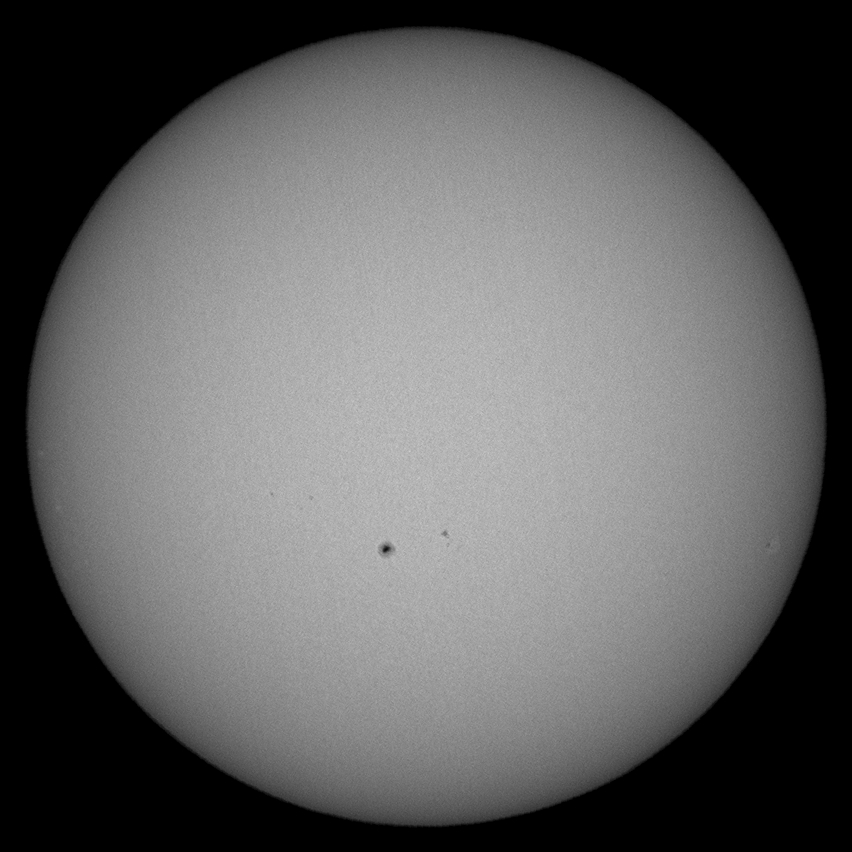sunspot: (375, 537, 400, 560), (437, 526, 455, 549)
